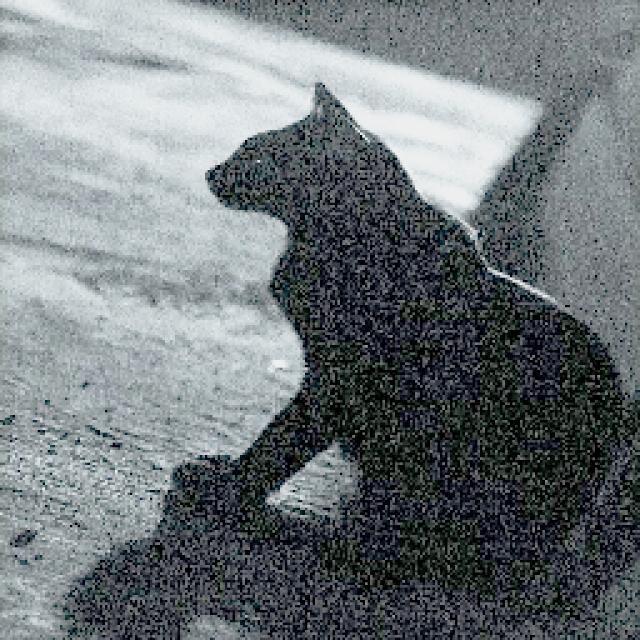cat: (165, 80, 631, 559)
